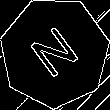N_SE: (24, 21, 85, 84)
